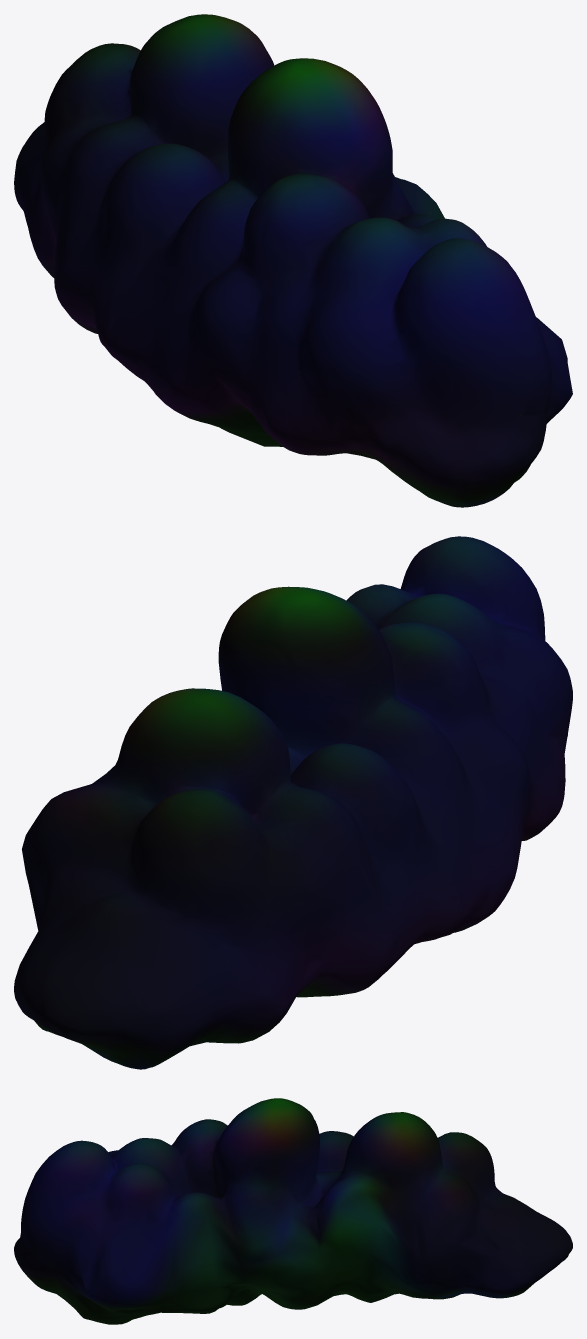
File: long_cloud.fbx
The picture shows the model from 3 angles, top to bottom: view 1: azimuth 30°, elevation 25°; view 2: azimuth 150°, elevation 25°; view 3: azimuth 270°, elevation 25°; orthographic projection. The views are drawn at different scales.
Visible parts, largest first — view 1: long_cloud; view 2: long_cloud; view 3: long_cloud.
Part boxes in pixels (box(x1,y1,x2,y2)): long_cloud: box(14, 14, 572, 507); long_cloud: box(14, 536, 572, 1069); long_cloud: box(14, 1098, 572, 1324).
Size of the model in its own units: 4.01 by 4.16 by 9.9.
